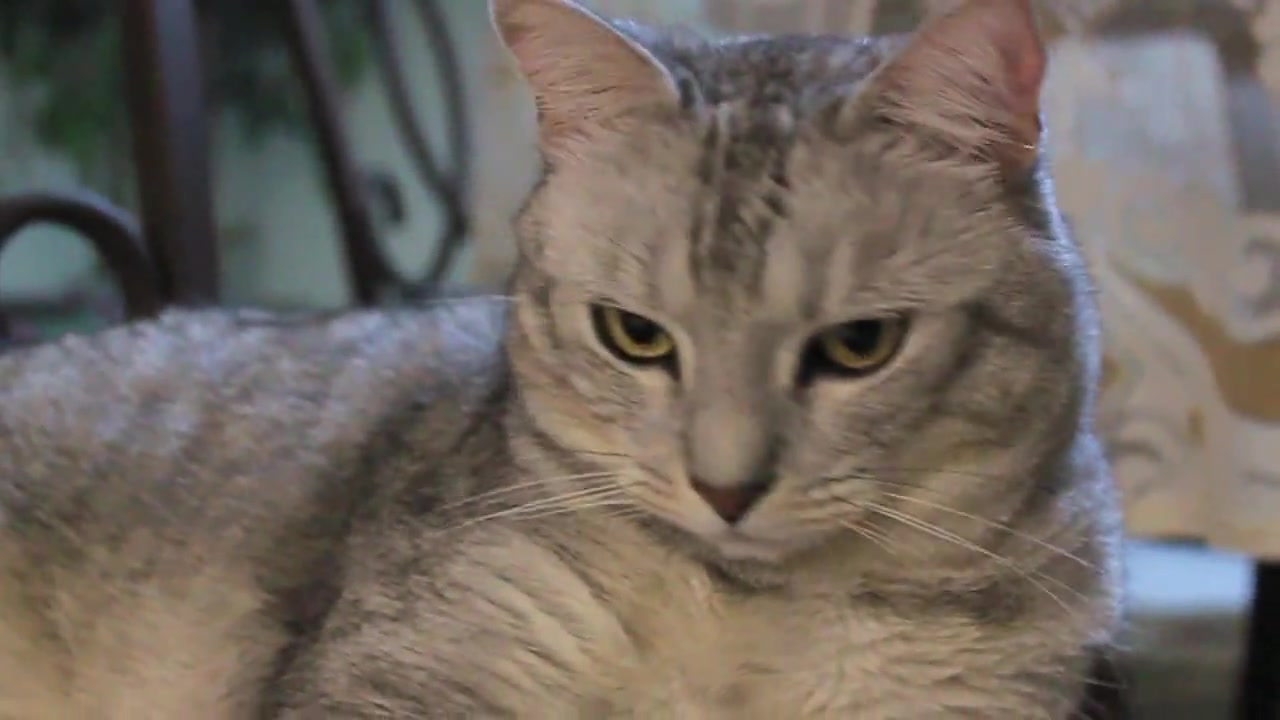cat: (1, 2, 1124, 720)
